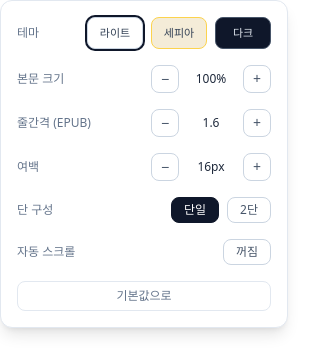
Scenario: ReaderSettingsPanel › 본문 크기 스텝퍼가 배율을 조절한다
Click the button named "본문 크기 늘리기": (257, 79) [243,65,271,93]
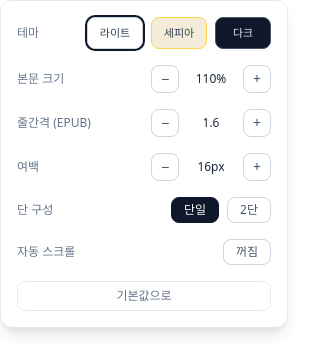
Expected: the text "110%" is shown, [196,70,226,87]
